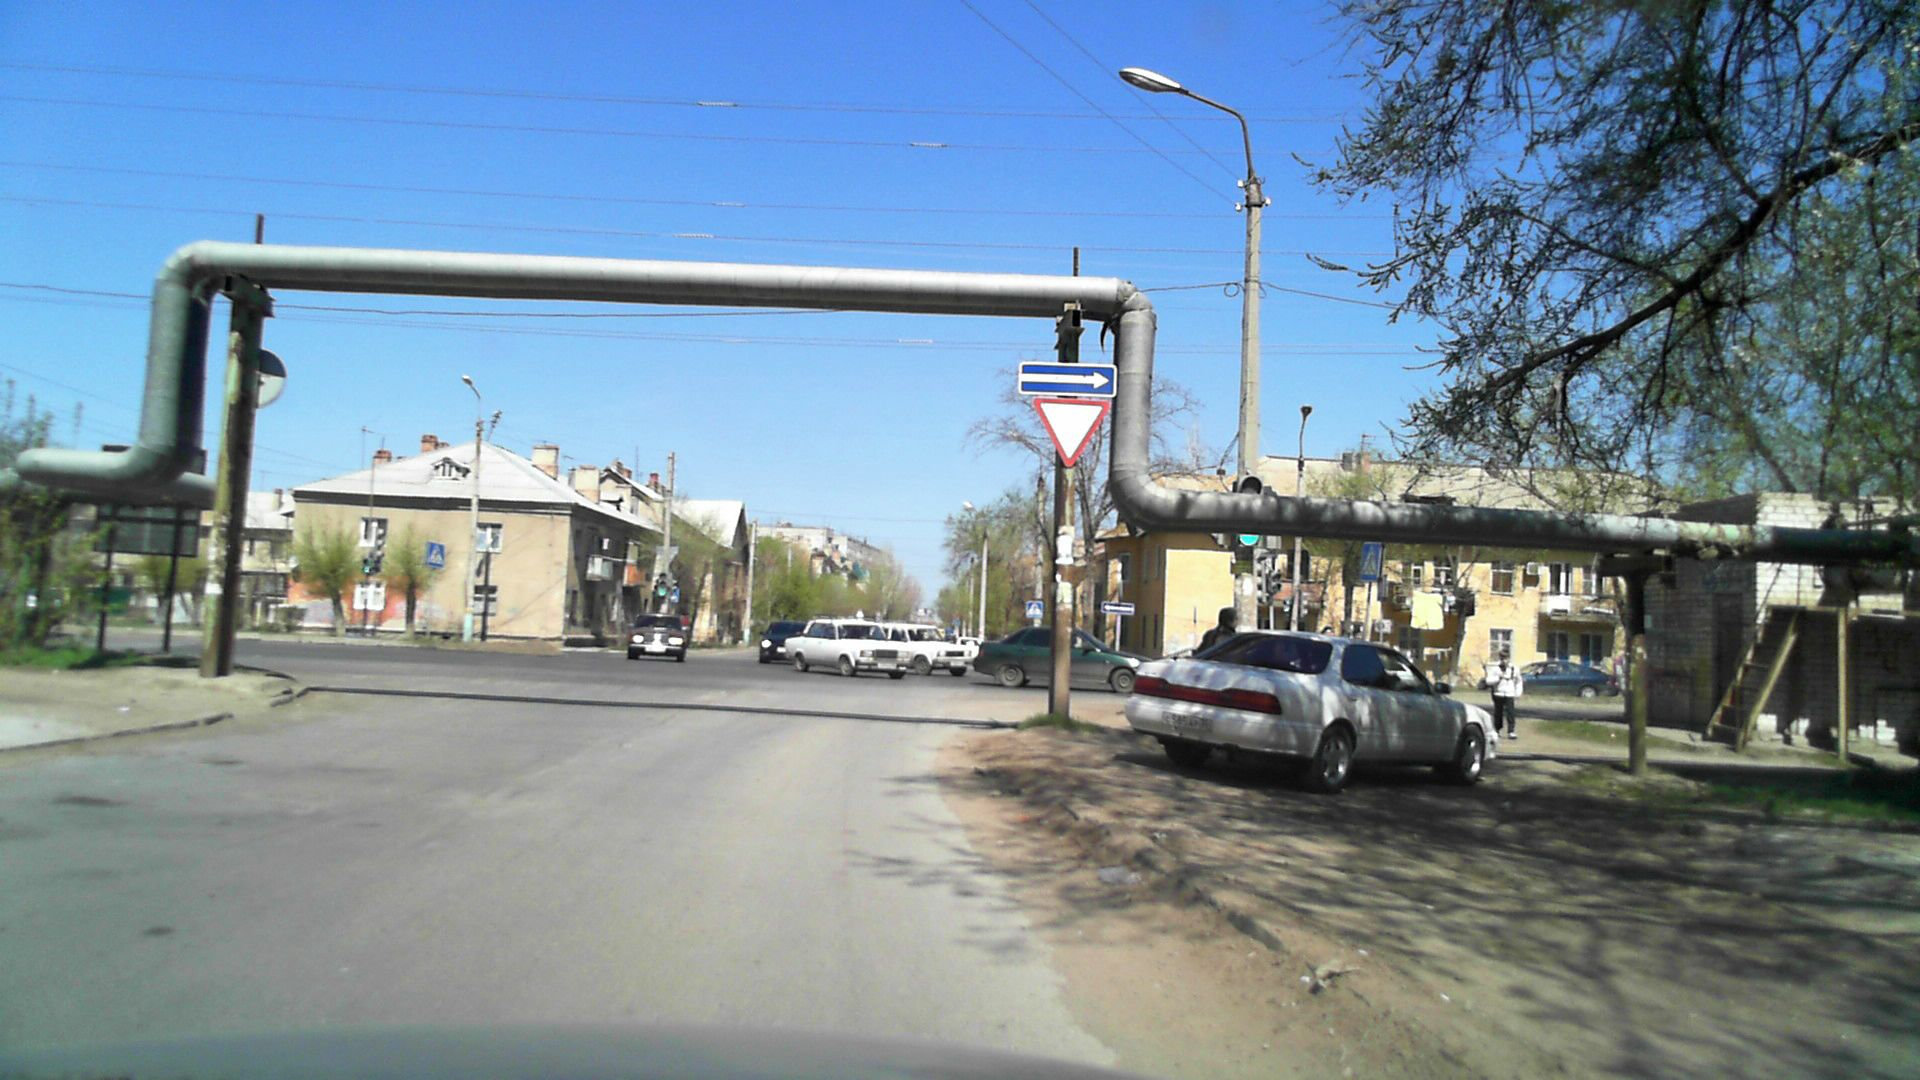One-Way Traffic: (1018, 363, 1116, 397)
